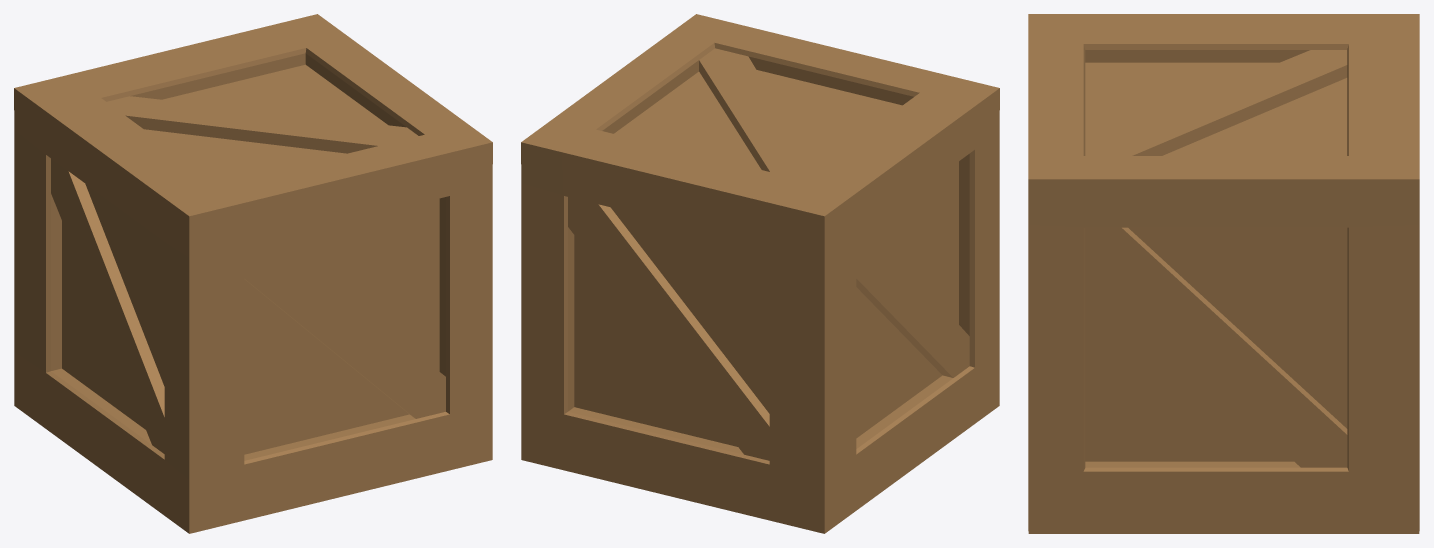
Rendered from Asset_Box_Wooden_01.fbx.
The picture shows the model from 3 angles, left to right: view 1: azimuth 30°, elevation 25°; view 2: azimuth 150°, elevation 25°; view 3: azimuth 270°, elevation 25°; orthographic projection. The views are drawn at different scales.
Parts seen in each view (by area): view 1: pCube1; view 2: pCube1; view 3: pCube1.
Part boxes in pixels (<box>): pCube1: <box>14,14,492,533</box>; pCube1: <box>521,14,999,533</box>; pCube1: <box>1028,14,1419,533</box>.
Bounding box in the file's own units: 170 × 170 × 170.
